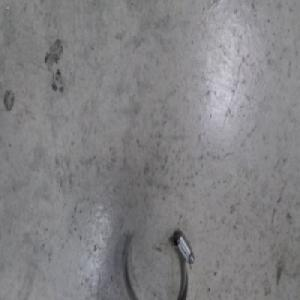AdjustableClamp: (122, 227, 195, 300)
